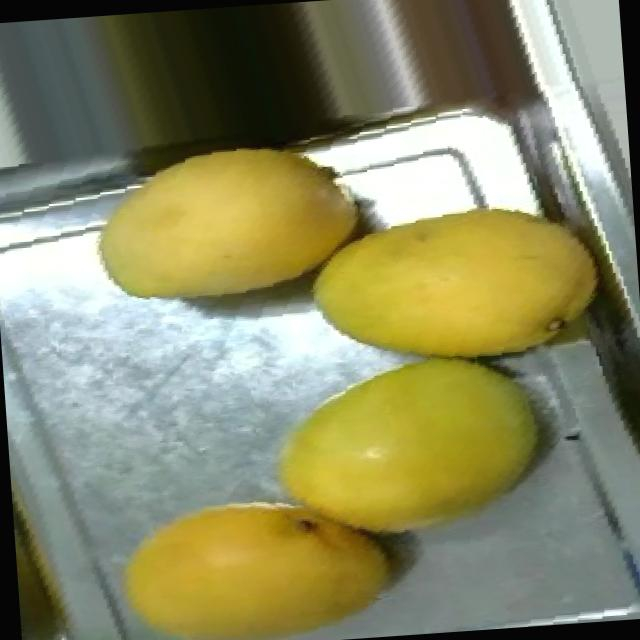mango: (268, 351, 546, 541), (306, 200, 604, 368), (87, 140, 363, 306), (117, 492, 394, 640)
